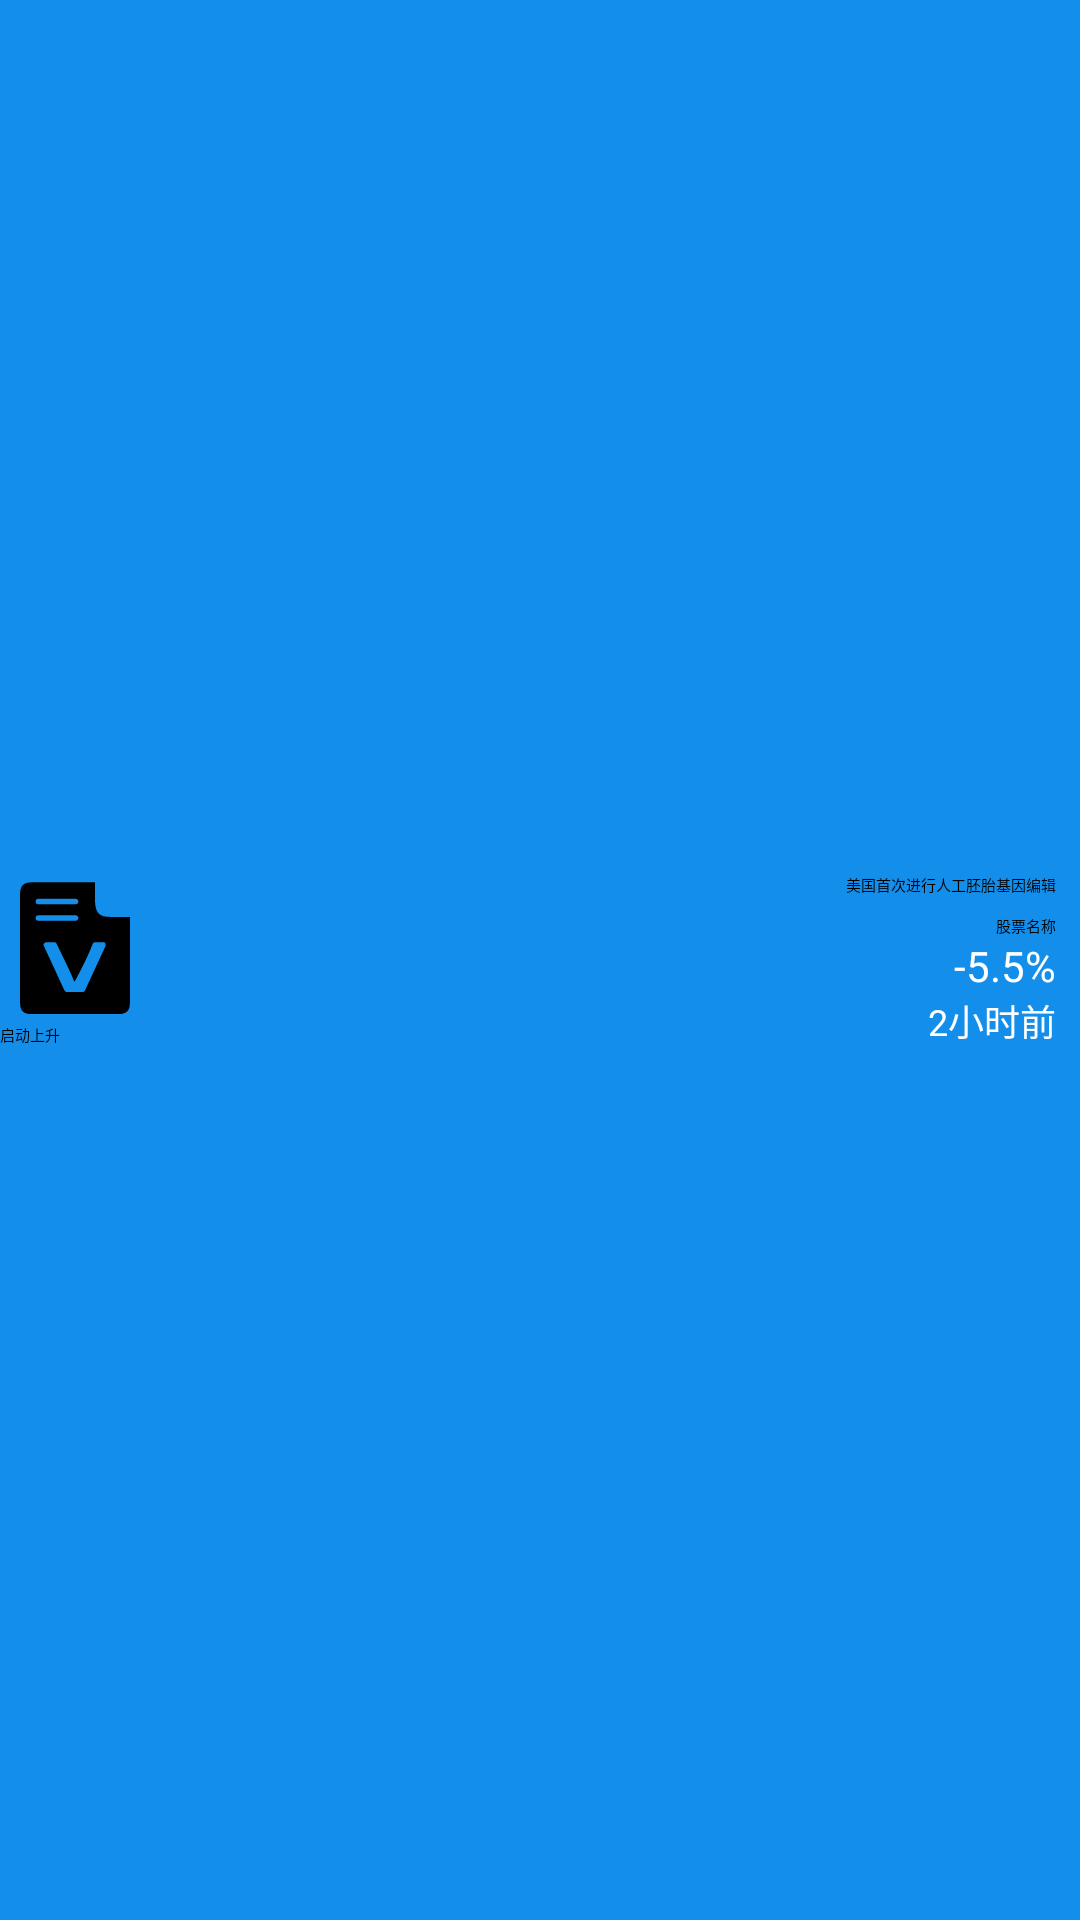

Icon bounding boxes for this 1080px×1920px phone screenshot, format (x1, y1, x2, y2):
version: (20, 882, 130, 1014)
